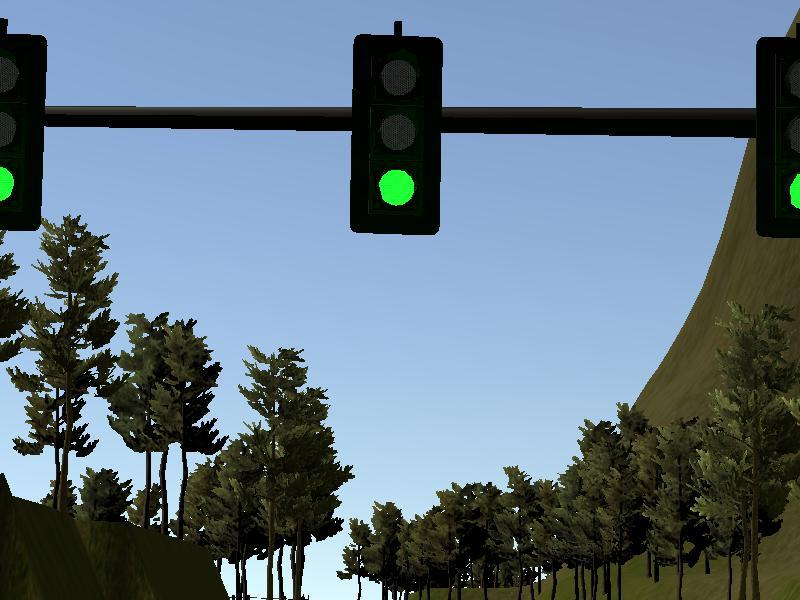Green: (354, 36, 439, 233), (758, 41, 800, 236), (1, 37, 41, 228)
